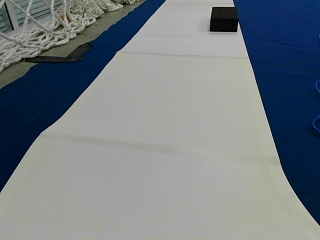block: (209, 6, 238, 31)
